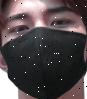with_mask: (1, 1, 87, 99)
